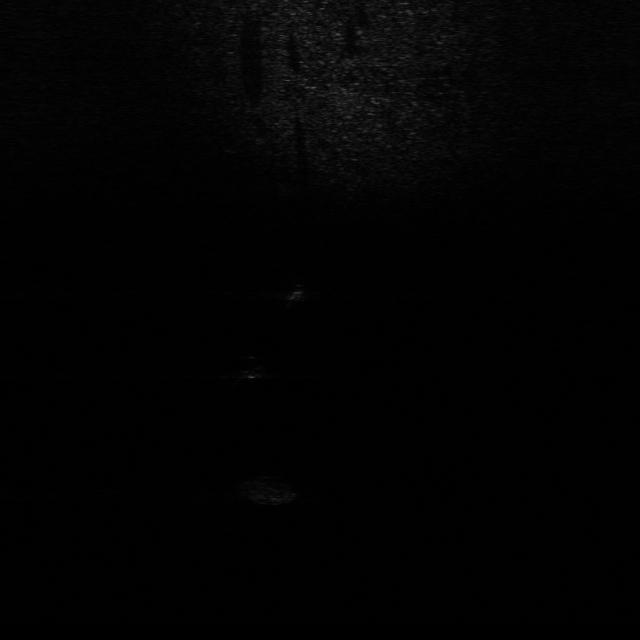ball: (228, 353, 270, 382)
circle cage: (236, 472, 302, 506)
human body: (272, 279, 314, 308)
